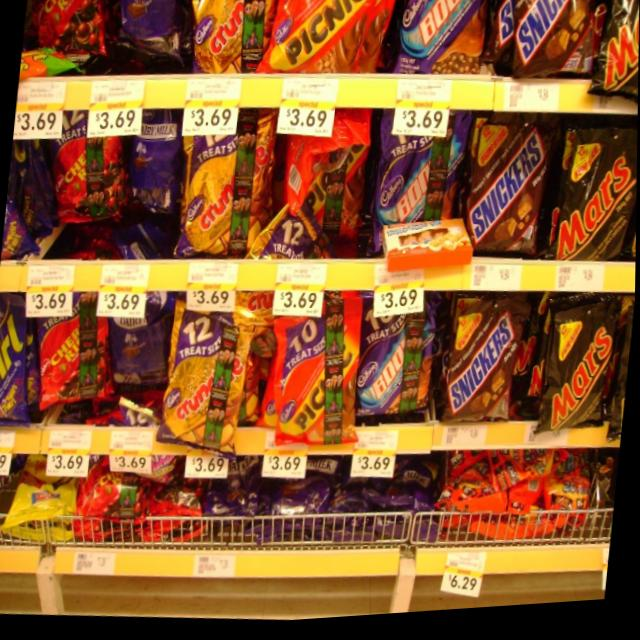q142: (464, 126, 559, 272), (436, 303, 531, 438), (500, 0, 610, 105)
